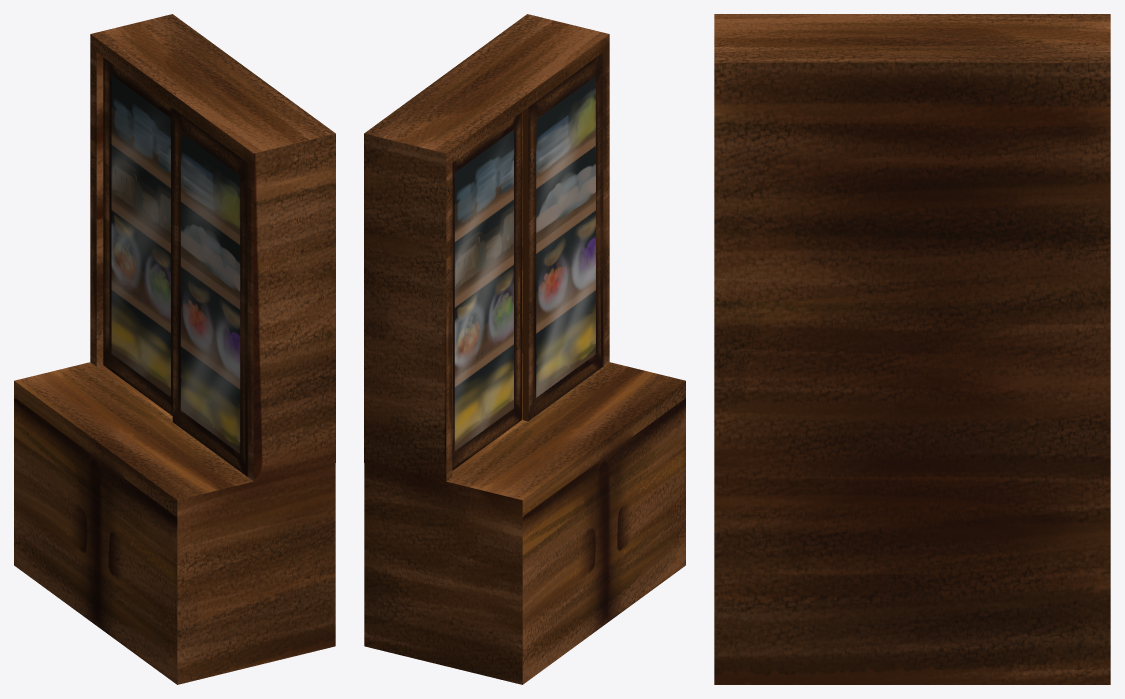
File: Showcase_tall.FBX
3 views of the same model, side by side, from view 1: azimuth 30°, elevation 25°; view 2: azimuth 150°, elevation 25°; view 3: azimuth 270°, elevation 25° (orthographic). The views are drawn at different scales.
Visible parts, largest first — view 1: Showcase_tall; view 2: Showcase_tall; view 3: Showcase_tall.
Boxes of the visible parts, bbox=[...] form: Showcase_tall: bbox=[14, 14, 335, 684]; Showcase_tall: bbox=[364, 14, 685, 684]; Showcase_tall: bbox=[714, 14, 1110, 684].
Size of the model in its own units: 74.64 by 231 by 133.
1 material, 1 textured.
